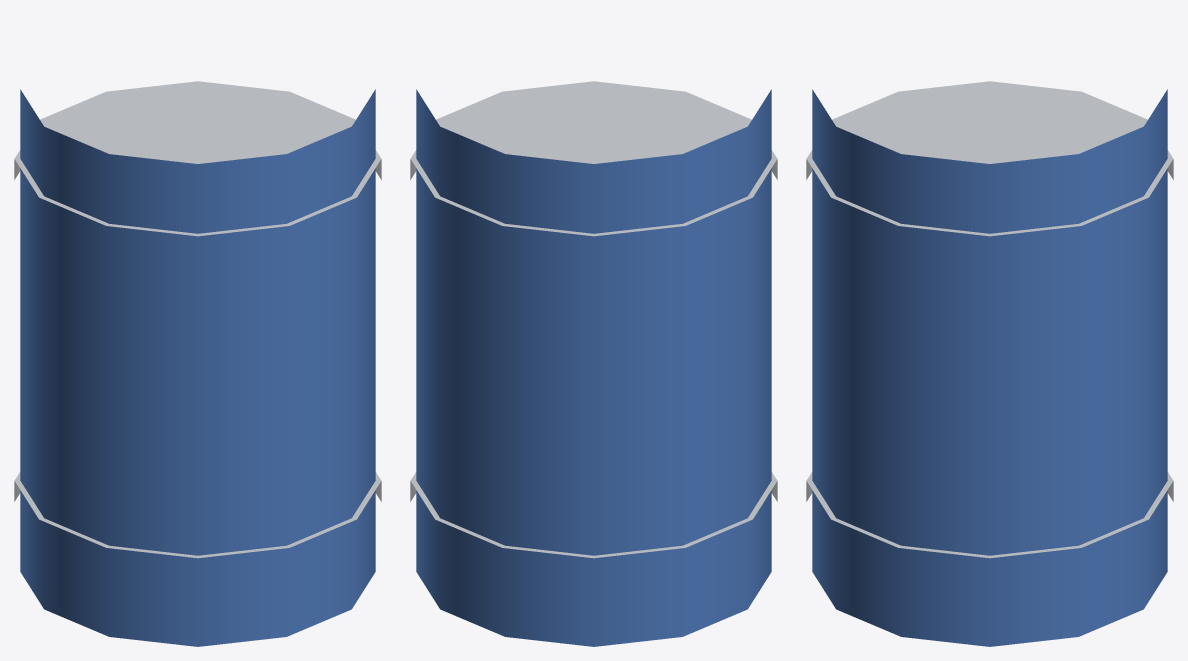
The model's file is oil_barrel.glb.
The picture shows the model from 3 angles, left to right: view 1: azimuth 30°, elevation 25°; view 2: azimuth 150°, elevation 25°; view 3: azimuth 270°, elevation 25°; orthographic projection.
Visible parts, largest first — view 1: oil_barrel; view 2: oil_barrel; view 3: oil_barrel.
Part boxes in pixels (left/top/right/bottom): oil_barrel: left=14, top=81, right=381, bottom=646; oil_barrel: left=410, top=81, right=777, bottom=646; oil_barrel: left=806, top=81, right=1173, bottom=646.
Size of the model in its own units: 0.62 by 0.9 by 0.62.
